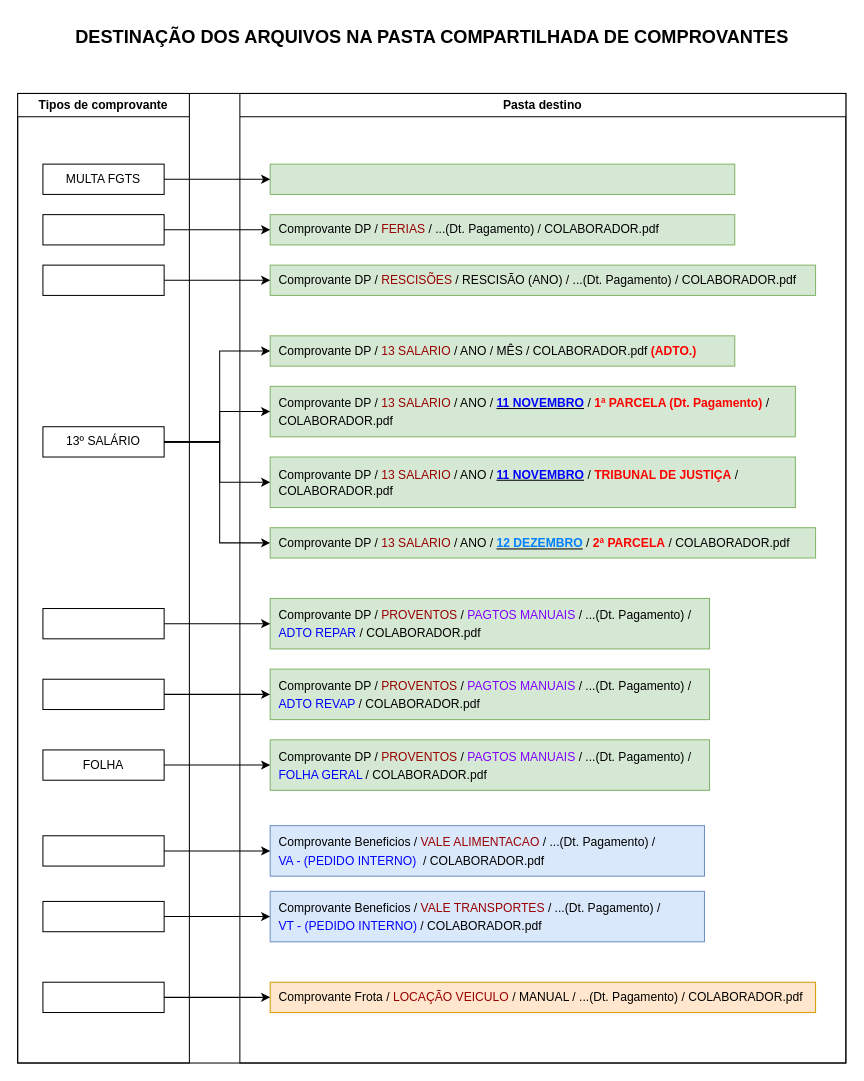
This 864x1081 diagram has some shape labels left out. Here are the shapes that lost their labels. From the top down, the centre of each, then its label:
At [502,178]: "Comprovante DP / MULTA FGTS / ...(Dt. Pagamento) / COLABORADOR.pdf".
At [103,229]: "FÉRIAS".
At [103,279]: "RESCISÃO".
At [103,623]: "ADTO REPAR".
At [103,694]: "ADTO REVAP".
At [103,850]: "PAGTOS VA".
At [103,916]: "PAGTOS VT".
At [103,997]: "LOCAÇÃO VEIC.".
